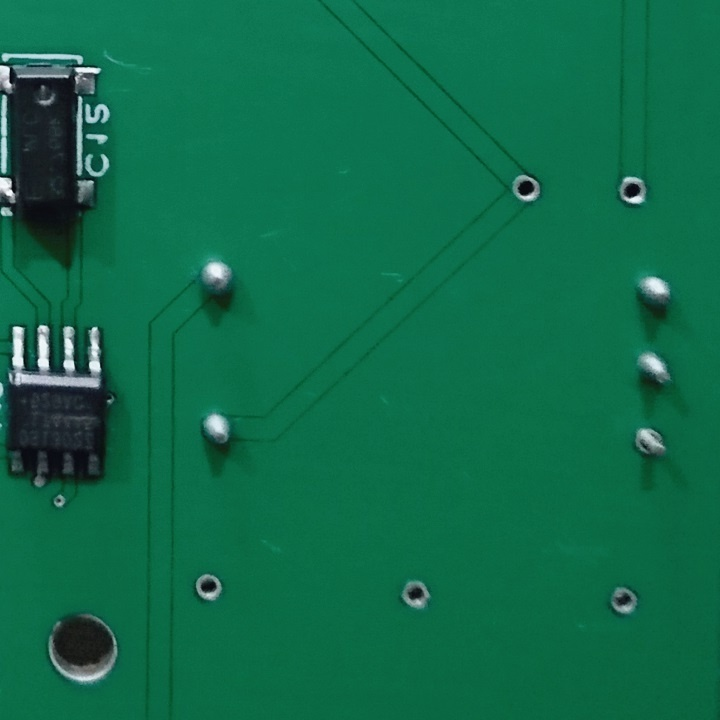F: (630, 422, 674, 469), (396, 575, 437, 619), (616, 167, 650, 210), (508, 168, 543, 207), (607, 583, 640, 623), (190, 570, 227, 604)
